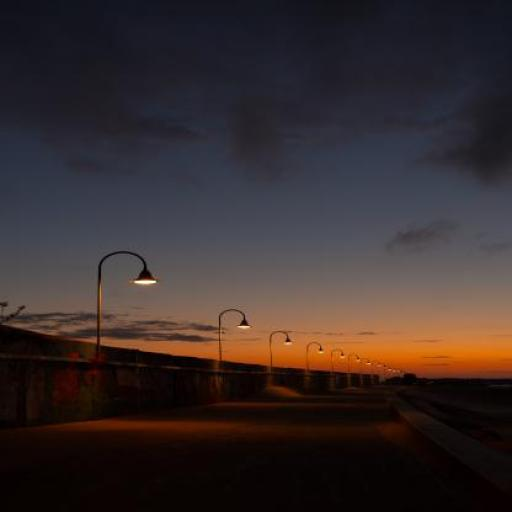street light: (97, 251, 162, 360), (219, 309, 253, 370), (270, 331, 294, 372), (306, 344, 326, 374), (331, 350, 346, 376), (348, 353, 361, 375), (360, 358, 372, 376), (372, 360, 382, 376), (384, 366, 391, 384), (389, 366, 396, 384), (379, 362, 387, 376)
